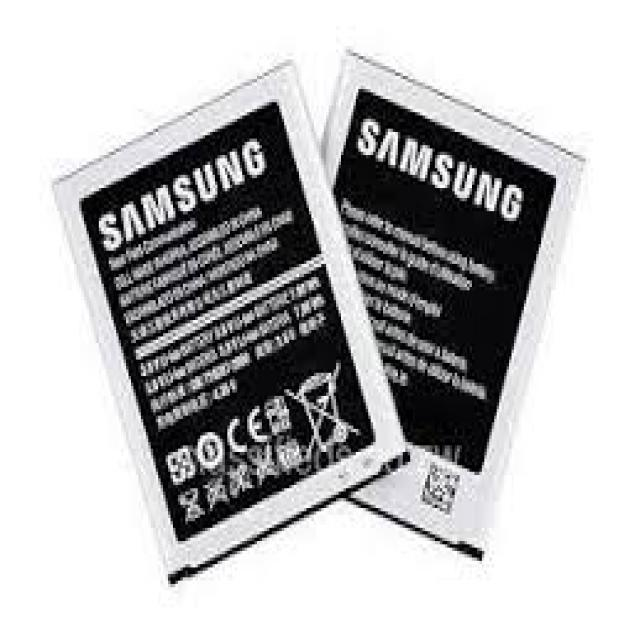battery: (52, 59, 408, 586), (322, 46, 590, 561)
